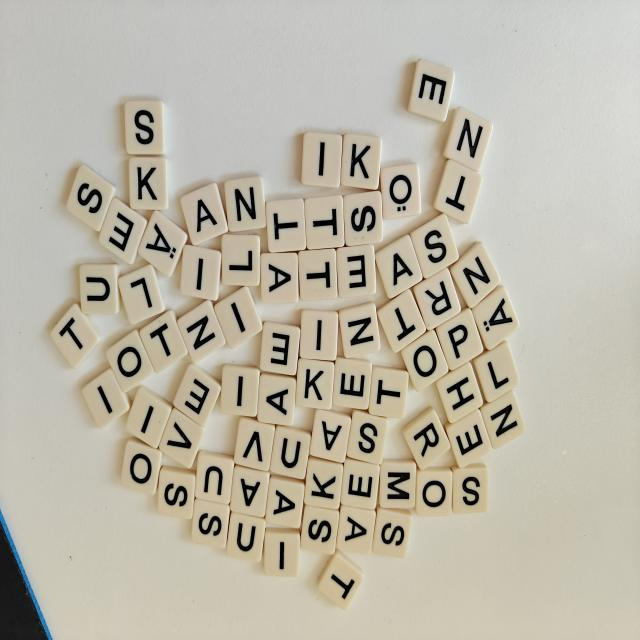a: (180, 183, 228, 245), (376, 235, 422, 298), (310, 410, 351, 463), (265, 475, 305, 528), (257, 372, 296, 425), (230, 465, 269, 517), (260, 252, 299, 304), (336, 506, 376, 554)
a_dot: (138, 211, 187, 276), (472, 285, 519, 350)
e: (99, 198, 147, 264), (173, 365, 221, 426), (408, 60, 454, 122), (445, 410, 491, 468), (260, 321, 300, 375), (337, 244, 376, 298), (340, 457, 380, 509), (333, 357, 372, 409)
h: (435, 362, 483, 423)
i: (214, 286, 262, 348), (82, 368, 130, 428), (126, 386, 172, 448), (301, 132, 342, 188), (180, 245, 221, 300), (220, 364, 260, 417), (300, 309, 338, 361), (264, 528, 300, 577)
k: (341, 133, 381, 190), (129, 156, 169, 210), (304, 456, 343, 509), (296, 359, 335, 410)
l: (473, 341, 519, 402), (118, 265, 165, 324), (222, 234, 260, 286)
m: (379, 459, 416, 509)
n: (450, 242, 500, 308), (443, 107, 492, 172), (177, 300, 226, 362), (480, 391, 525, 449), (224, 176, 266, 232), (339, 302, 380, 358)
o: (400, 330, 449, 390), (107, 330, 154, 392), (121, 438, 162, 494), (415, 467, 452, 516)
o_dot: (380, 164, 421, 219)
p: (436, 308, 483, 370)
r: (402, 408, 450, 470), (413, 269, 461, 330)
s: (67, 165, 116, 231), (410, 214, 458, 278), (124, 101, 166, 155), (343, 190, 383, 246), (347, 410, 387, 464), (372, 507, 412, 558), (158, 466, 196, 519), (192, 499, 230, 548), (301, 505, 339, 554), (452, 464, 488, 514)
t: (51, 304, 101, 368), (433, 160, 482, 223), (378, 290, 426, 352), (140, 310, 187, 372), (318, 550, 363, 609), (266, 198, 306, 253), (305, 195, 345, 249), (368, 366, 409, 418), (298, 248, 338, 300)
u: (270, 425, 311, 479), (195, 451, 234, 505), (79, 264, 120, 314), (226, 511, 266, 561)
v: (159, 408, 205, 468), (234, 417, 275, 471)
